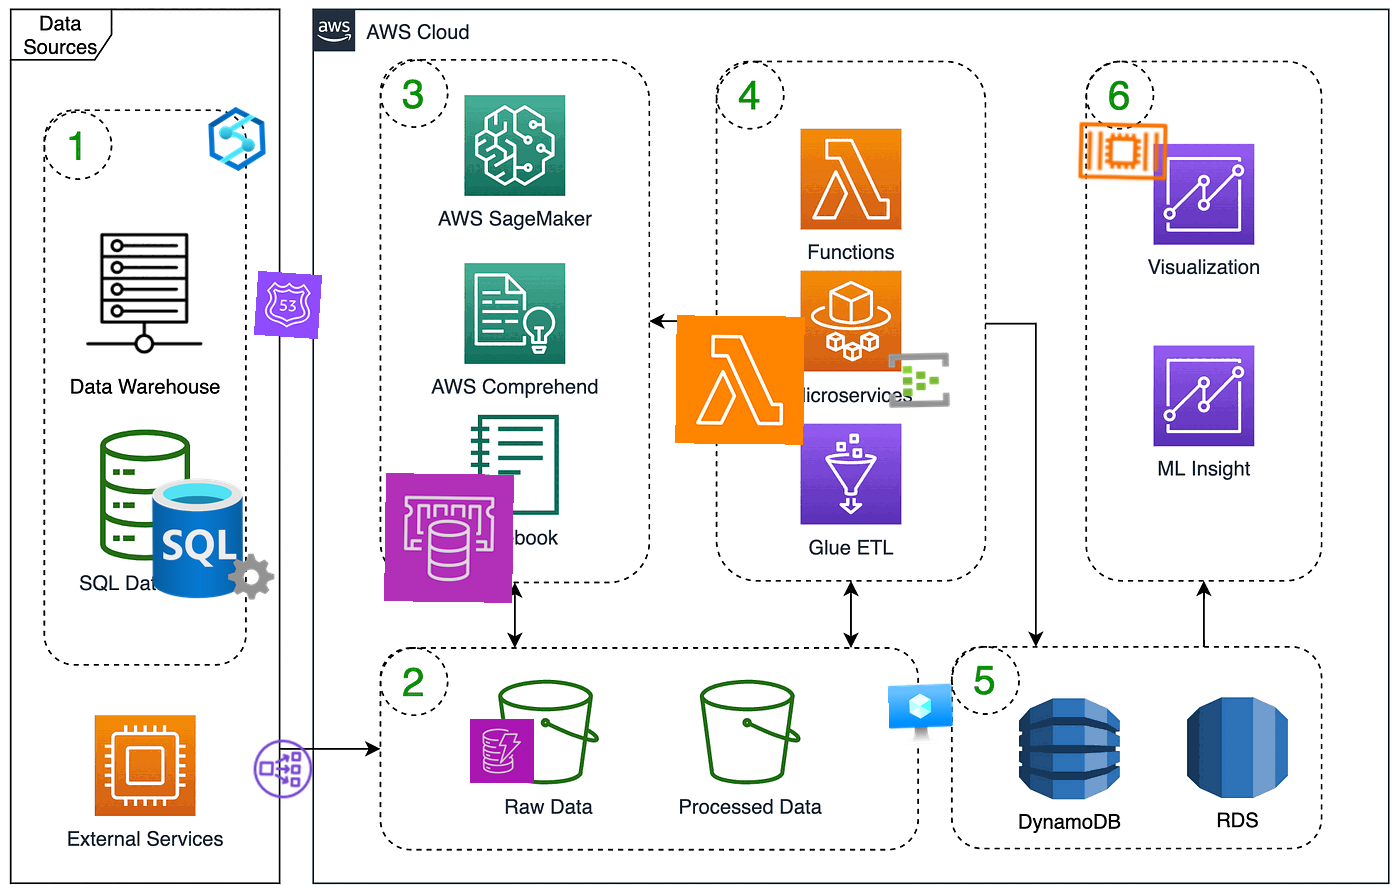aws_amazon_dynamodb: (469, 718, 535, 784)
aws_amazon_elasticache: (384, 473, 514, 603)
aws_amazon_route_53: (253, 270, 323, 340)
aws_elastic_container_service_container_2: (1073, 101, 1173, 201)
aws_elastic_load_balancing_network_load_balancer: (250, 736, 316, 802)
aws_lambda: (676, 315, 805, 445)
azure_event_hubs: (886, 347, 952, 413)
azure_sql_server: (148, 474, 278, 604)
azure_synapse_analytics: (203, 105, 271, 173)
azure_virtual_machine: (887, 682, 955, 750)
